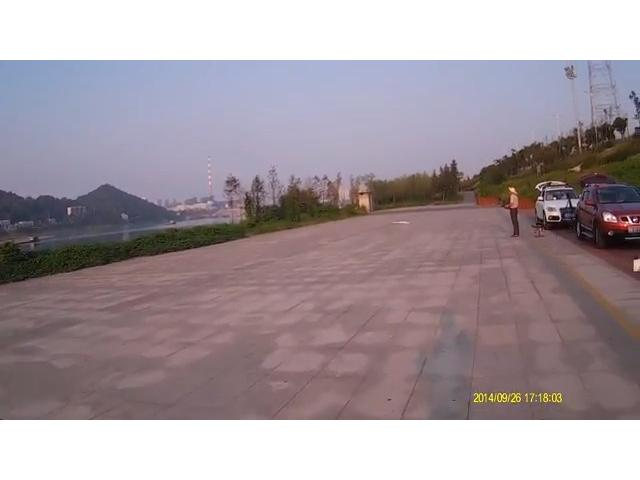Anti-Drone: (380, 215, 422, 229)
